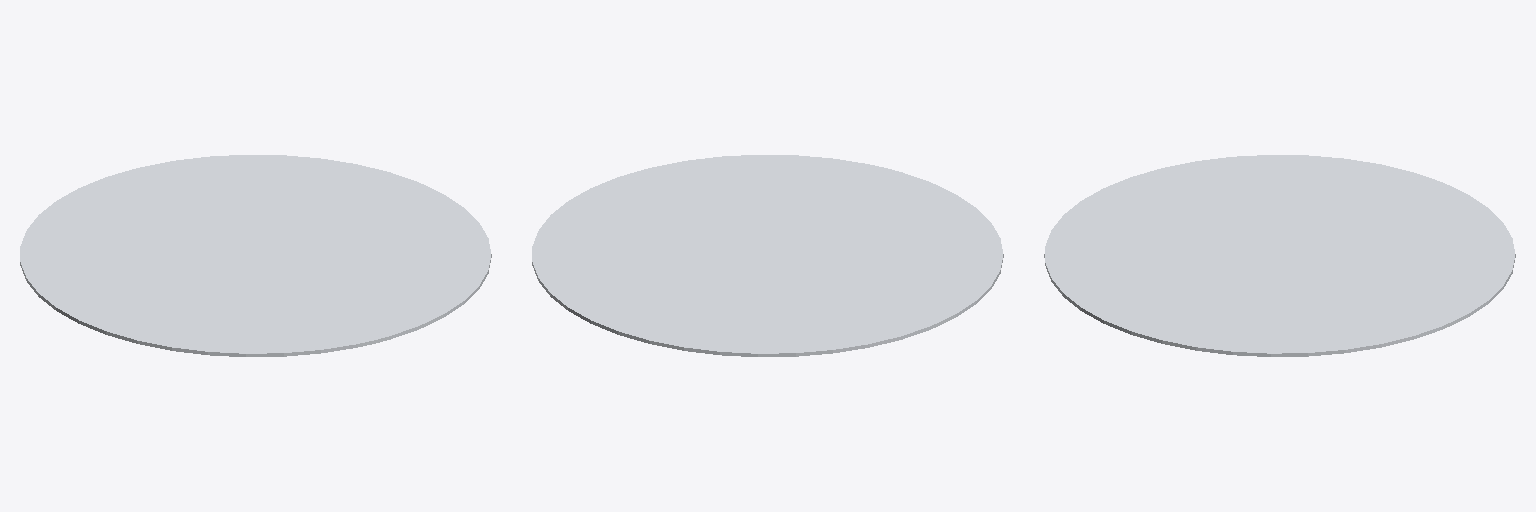
robot.urdf — simpleplane:
<?xml version="1.0"?>
<robot name="simpleplane">
    <!-- Colors -->
    <material name="grey">
        <color rgba="0.91 0.925 0.945 1"/>
    </material>

    <!-- Plane -->
    <link name="base_link">
        <visual>
            <geometry>
              <mesh
                filename="arena.STL" />
                <origin rpy="0 0 0" xyz="-10 -10 -0.005"/>
            </geometry>
            <material name="grey"/>
        </visual>
        <collision>
             <geometry>
               <mesh
                 filename="arena.STL" />
                <origin rpy="0 0 0" xyz="-10 -10 -0.005"/>
            </geometry>
        </collision>
        <inertial>
            <mass value="0"/>
            <inertia ixx="0" ixy="0" ixz="0" iyy="0" iyz="0" izz="0"/>
        </inertial>
        <contact>
            <lateral_friction value="4"/>
        </contact>
    </link>
</robot>

--- Facts derived from the render (not from the file) ---
The picture shows the robot from 3 angles, left to right: view 1: azimuth 30°, elevation 25°; view 2: azimuth 150°, elevation 25°; view 3: azimuth 270°, elevation 25°; orthographic projection.
Robot: simpleplane — 1 links, 0 joints (none); root link base_link; default pose: all joints at 0.
Links seen in each view (by area): view 1: base_link; view 2: base_link; view 3: base_link.
Boxes of the visible links, x1,y1,x2,y2 form: base_link: [20, 155, 491, 356]; base_link: [532, 155, 1003, 356]; base_link: [1044, 155, 1515, 356].
Bounding box of the posed robot: 1.54 × 1.54 × 0.0127 m (x, y, z).
Meshes: 1 distinct files referenced, 1 mesh visuals loaded (1 binary STL).
